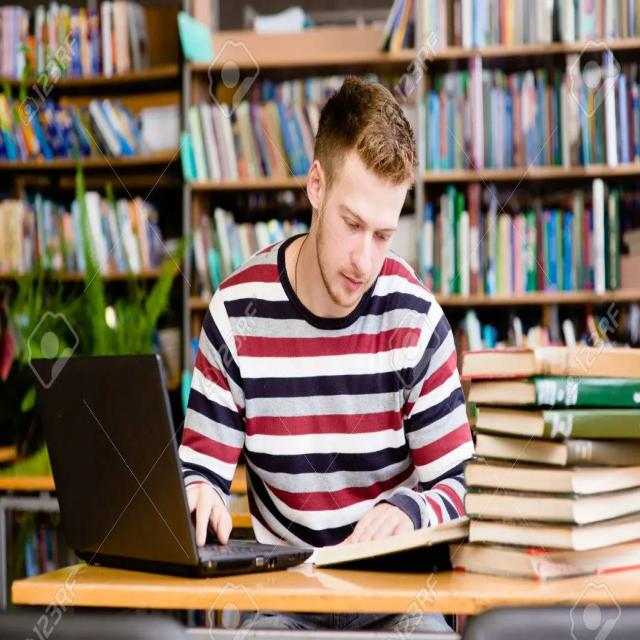studying-person: (181, 45, 640, 583)
